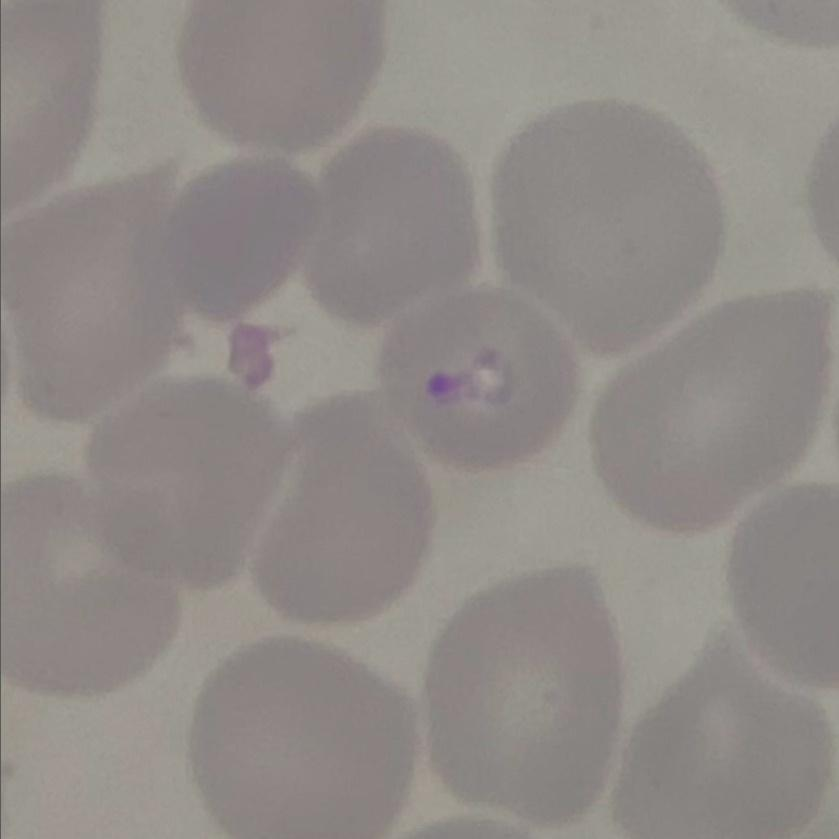Infected: (377, 279, 581, 468)
Uninfected: (485, 99, 727, 354), (587, 287, 827, 531), (423, 560, 619, 823), (610, 625, 839, 839), (185, 635, 423, 839), (0, 162, 186, 423), (78, 375, 293, 589), (240, 389, 431, 628), (0, 465, 183, 695), (293, 127, 483, 326), (177, 0, 387, 151), (163, 157, 318, 318)
